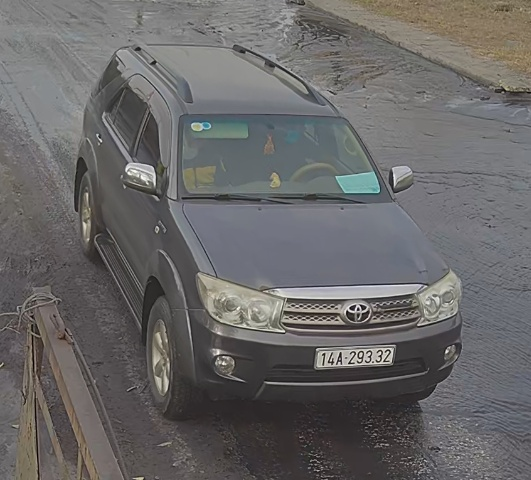vehicle plate: (309, 343, 401, 372)
